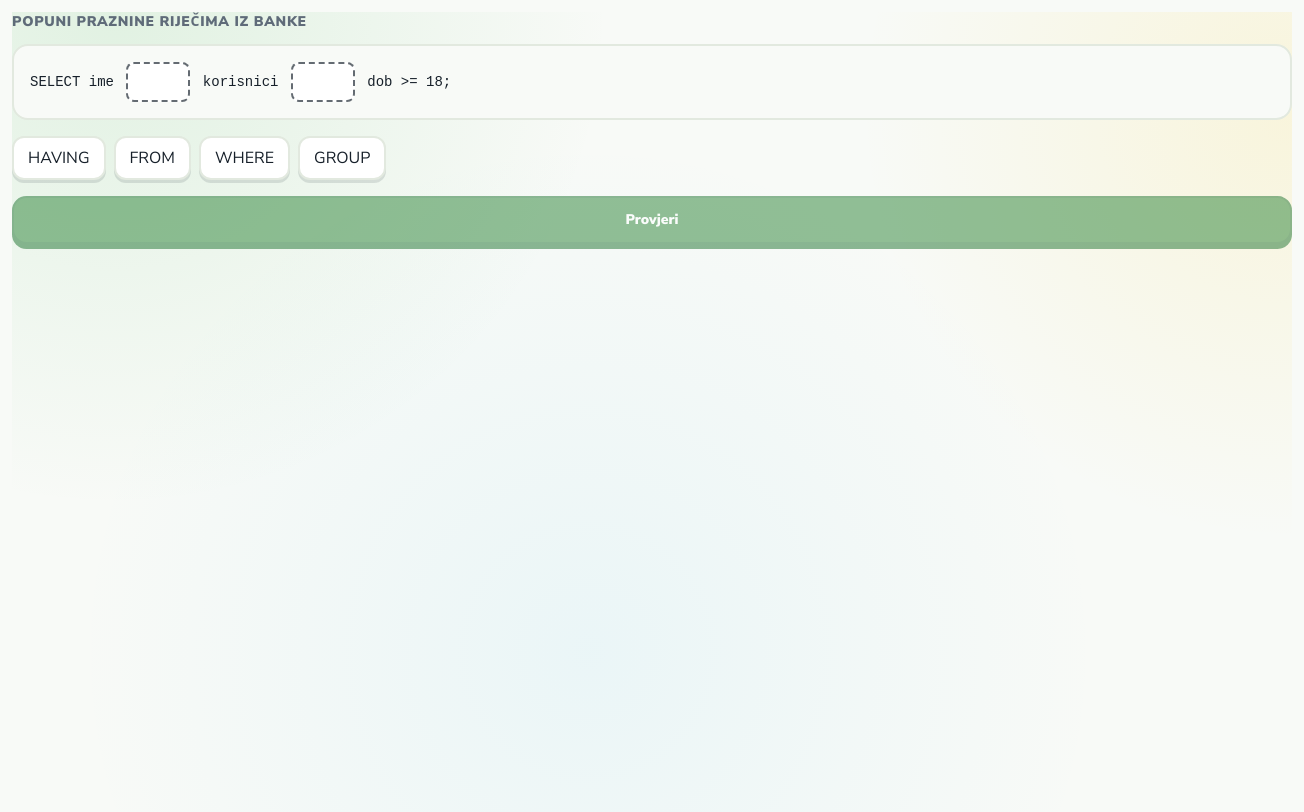
fill in the blank › iskorištena riječ nestaje iz banke, a klik na prazninu je vraća
Click the button "FROM": (152, 158) [114,136,191,180]
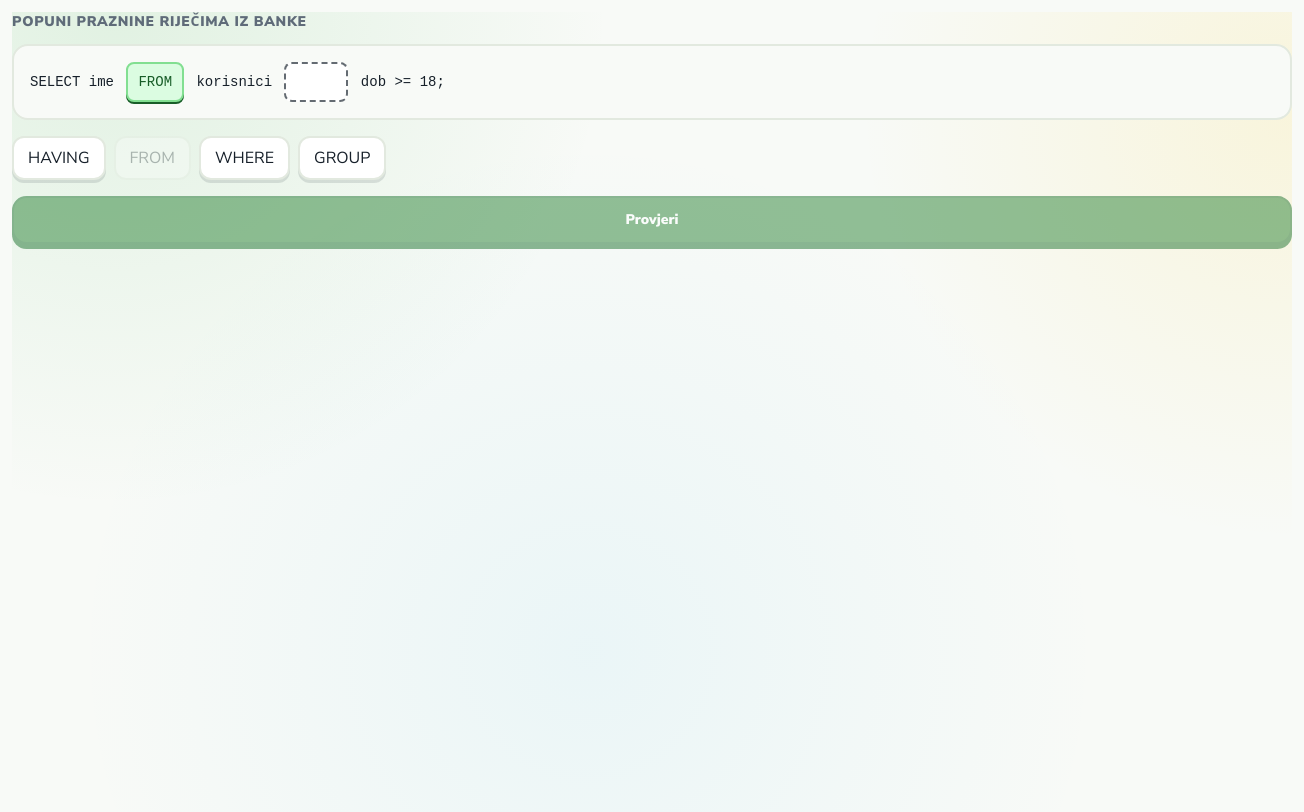
Expected: the 2nd button "FROM" is disabled, [114,136,191,180]
Note: Riječ u praznini nosi vlastiti aria-label i vraća se klikom.
Click the button with aria-label "Praznina 1: FROM": (155, 82) [126,62,184,102]
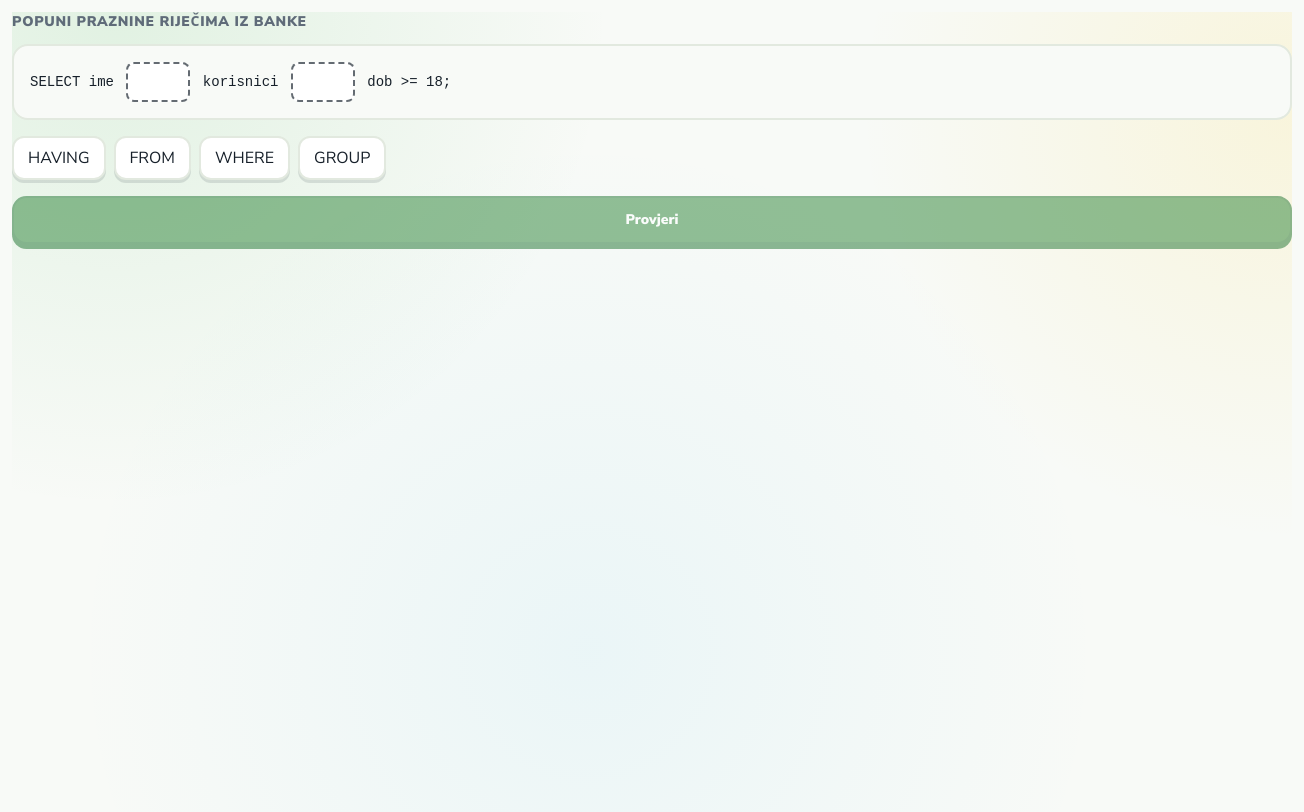
Expected: the button "FROM" is enabled, [114,136,191,180]
